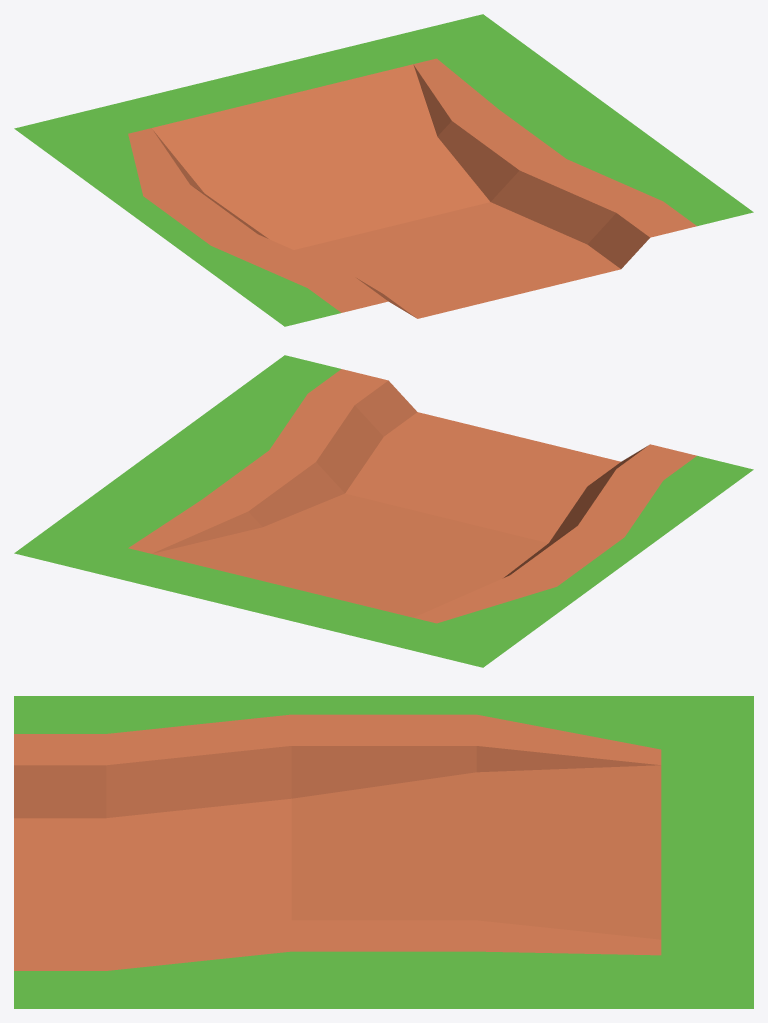
Rendered from ground_pathEnd.glb.
3 renders of one model, top to bottom at view 1: azimuth 30°, elevation 25°; view 2: azimuth 150°, elevation 25°; view 3: azimuth 270°, elevation 25°, orthographic. The views are drawn at different scales.
Parts seen in each view (by area): view 1: ground_pathEnd; view 2: ground_pathEnd; view 3: ground_pathEnd.
Boxes of the visible parts, <box> form: ground_pathEnd: <box>14,14,753,326</box>; ground_pathEnd: <box>14,355,753,667</box>; ground_pathEnd: <box>14,696,753,1008</box>.
Size of the model in its own units: 1 by 0.05 by 1.
